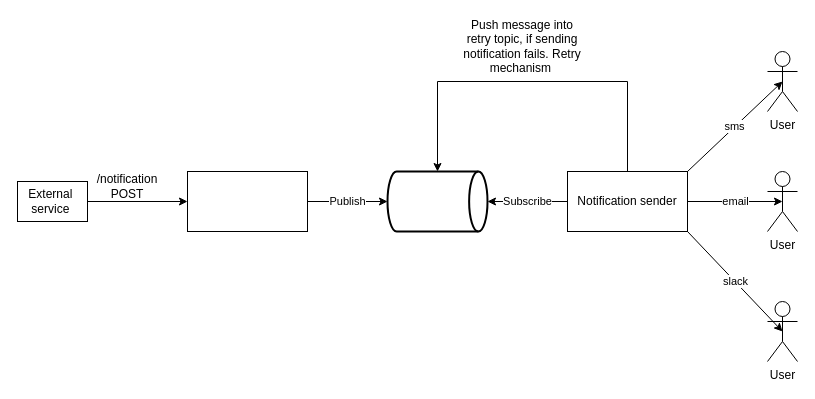
Image size: 815x399. Some labels were removed from this diagram. Each missing label, with the box of its shape:
Kafka: (386, 170, 488, 232)
Notification server: (186, 170, 308, 232)
